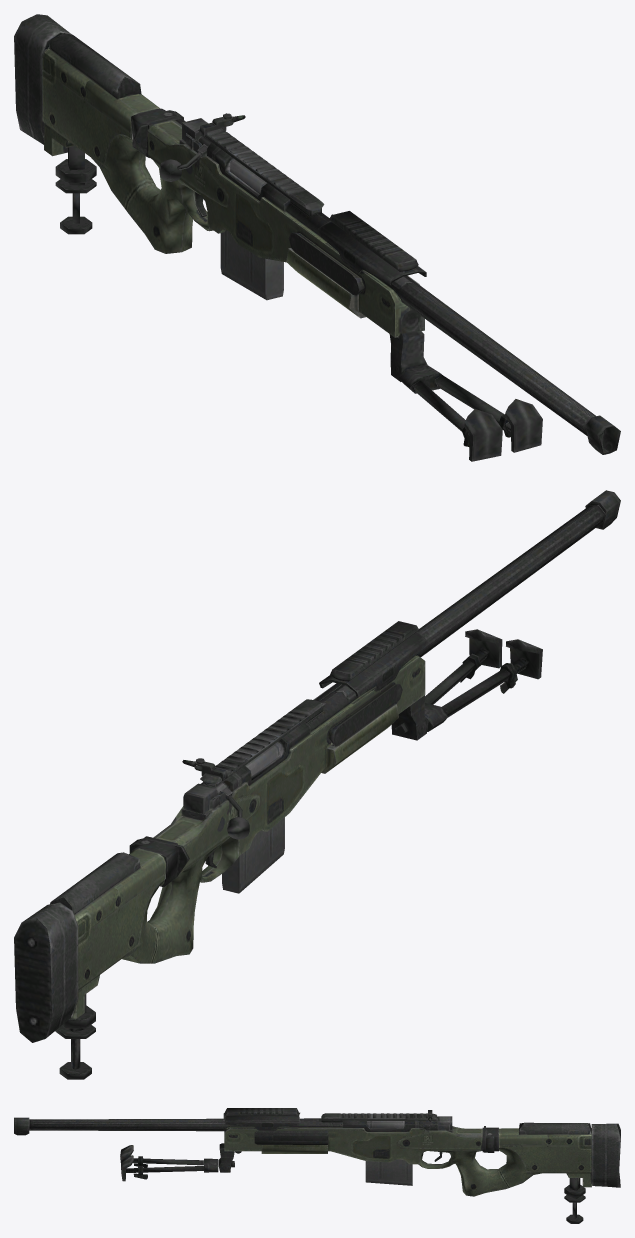
The model's file is Sniper_Rifle_jjq_02_Body_Main_(000168).glb.
3 renders of one model, top to bottom at view 1: azimuth 30°, elevation 25°; view 2: azimuth 150°, elevation 25°; view 3: azimuth 270°, elevation 25°, orthographic. The views are drawn at different scales.
Parts seen in each view (by area): view 1: jjq_02; view 2: jjq_02; view 3: jjq_02.
Part boxes in pixels (left/top/right/bottom): jjq_02: left=14, top=14, right=620, bottom=461; jjq_02: left=14, top=490, right=620, bottom=1079; jjq_02: left=14, top=1108, right=620, bottom=1223.
Size of the model in its own units: 0.1413 by 0.3609 by 1.8.
1 material, 1 textured.
